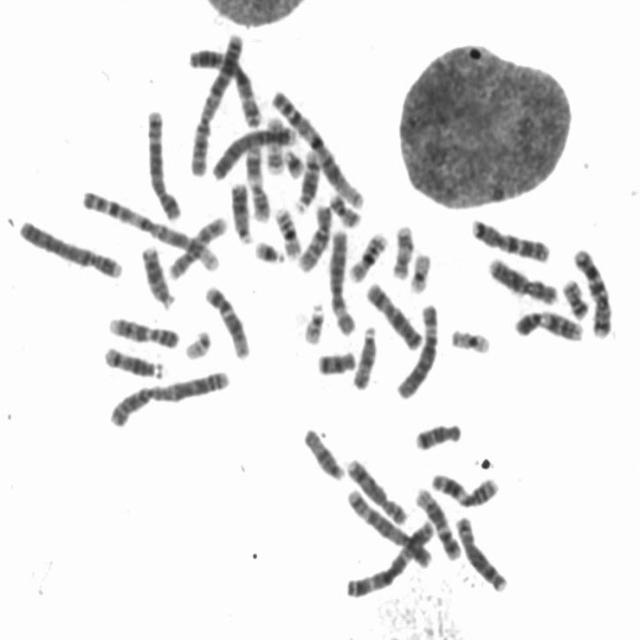A1: (77, 182, 225, 274), (266, 85, 367, 211)
A2: (184, 30, 245, 179), (105, 364, 233, 429)
A3: (342, 515, 437, 599), (184, 42, 264, 128)
B4: (15, 213, 126, 280), (208, 119, 298, 182)
B5: (342, 483, 437, 569), (141, 102, 184, 222)
C10: (164, 210, 228, 280), (293, 198, 335, 274)
C11: (428, 466, 501, 509), (242, 140, 272, 223)
C12: (410, 482, 462, 562), (201, 280, 253, 360)
C6: (391, 296, 441, 401), (324, 224, 358, 336)
C7: (568, 242, 614, 340), (467, 212, 553, 264)
C8: (342, 451, 411, 526), (452, 511, 510, 594)
C9: (105, 310, 182, 350), (511, 304, 586, 344)
D13: (137, 240, 177, 310), (227, 177, 255, 244)
D14: (99, 340, 166, 380), (292, 144, 324, 213)
D15: (300, 422, 347, 482), (348, 319, 379, 392)
E16: (344, 227, 390, 284), (271, 202, 304, 260)
E17: (388, 220, 416, 280), (262, 111, 286, 176)
E18: (411, 417, 464, 452), (314, 344, 358, 376)
F19: (447, 322, 493, 356), (405, 247, 433, 296)
F20: (558, 272, 590, 322), (324, 188, 364, 228)
G21: (250, 233, 287, 266), (280, 143, 306, 180)
G22: (299, 296, 327, 346), (180, 324, 214, 362)
X: (362, 276, 425, 352), (483, 252, 561, 306)
